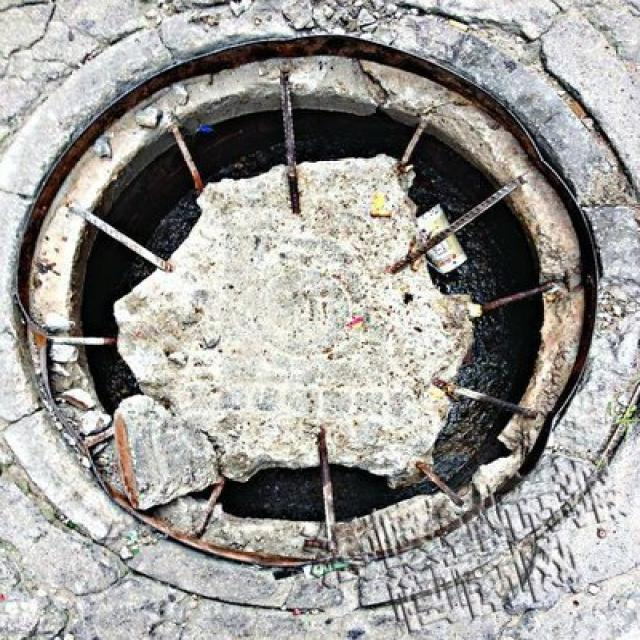manhole: (0, 29, 630, 578)
